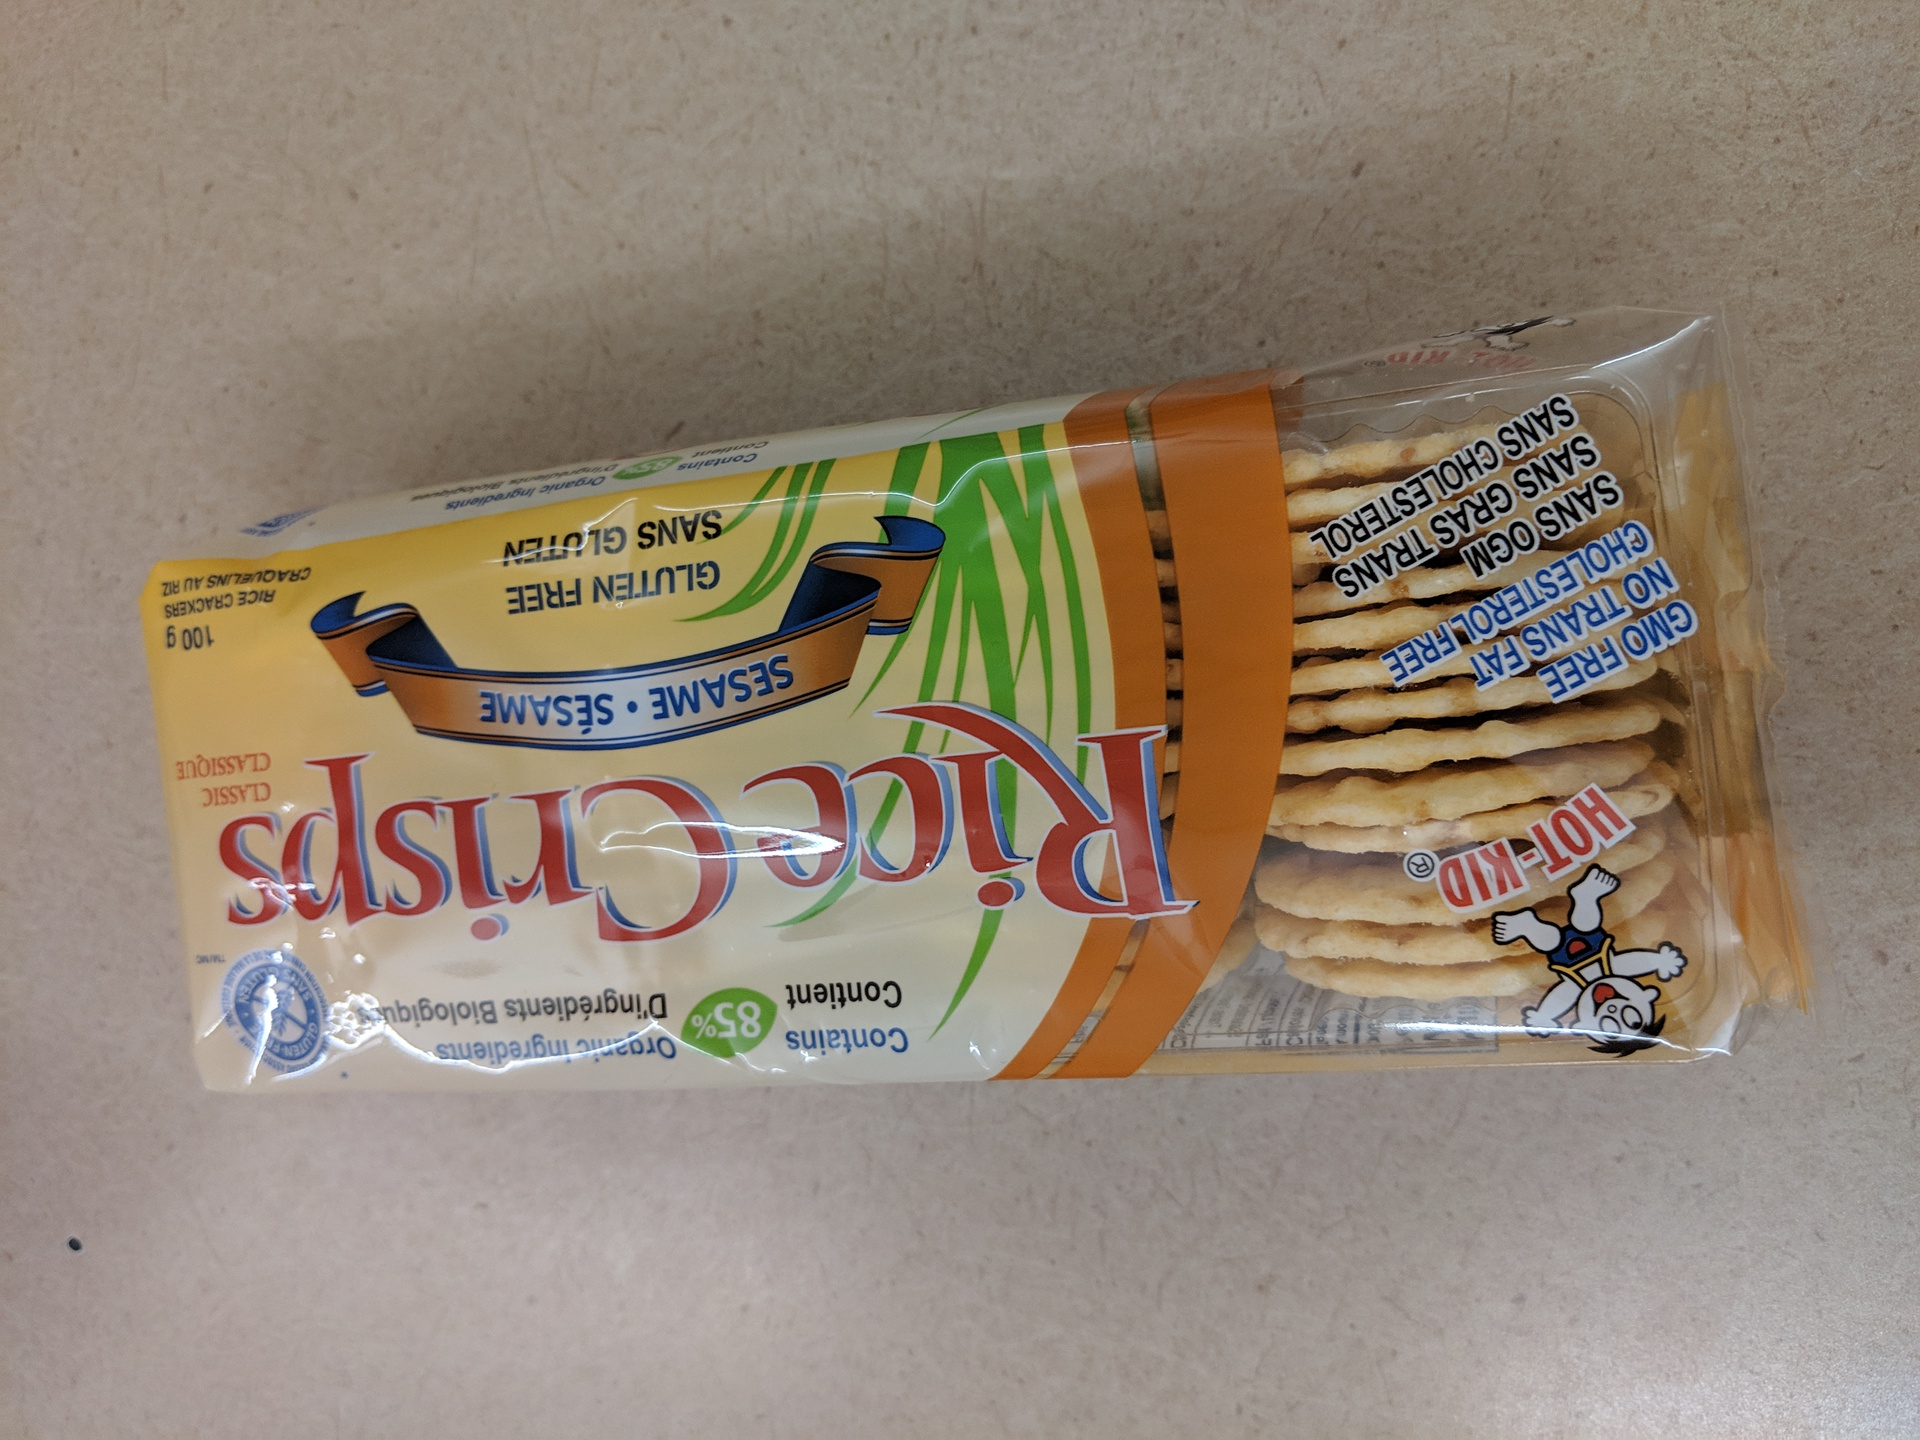hot_kid_rice_crisps_sesame: (133, 292, 1826, 1100)
